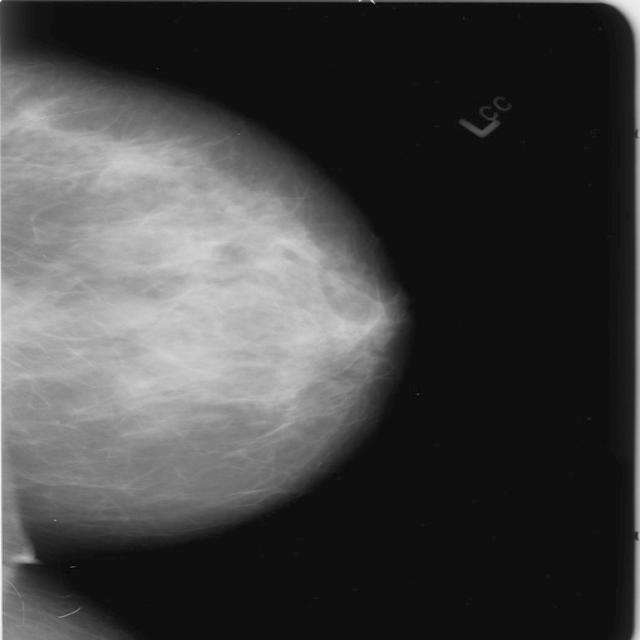tumour: (12, 106, 46, 131)
